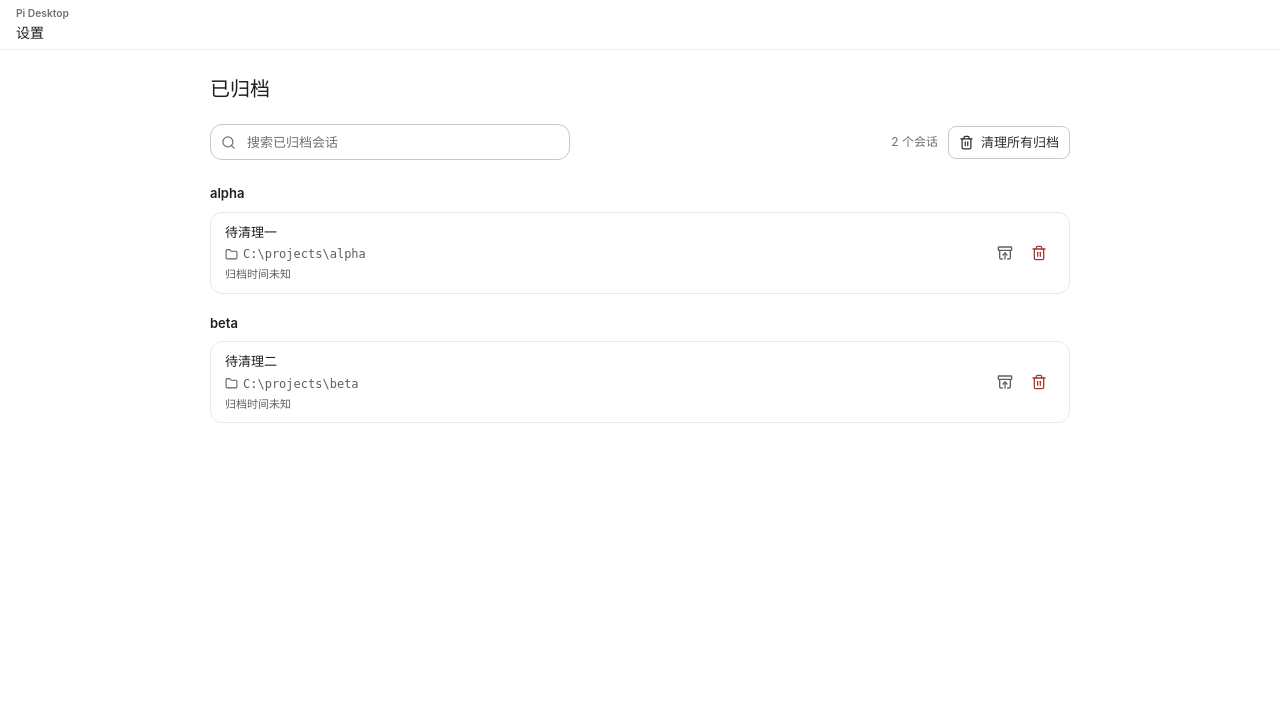
Scenario: SettingsView › 一键清理会删除 Pi 原生会话并清空归档索引
Click the button "清理所有归档" at (1009, 142), box [948,126,1070,159]
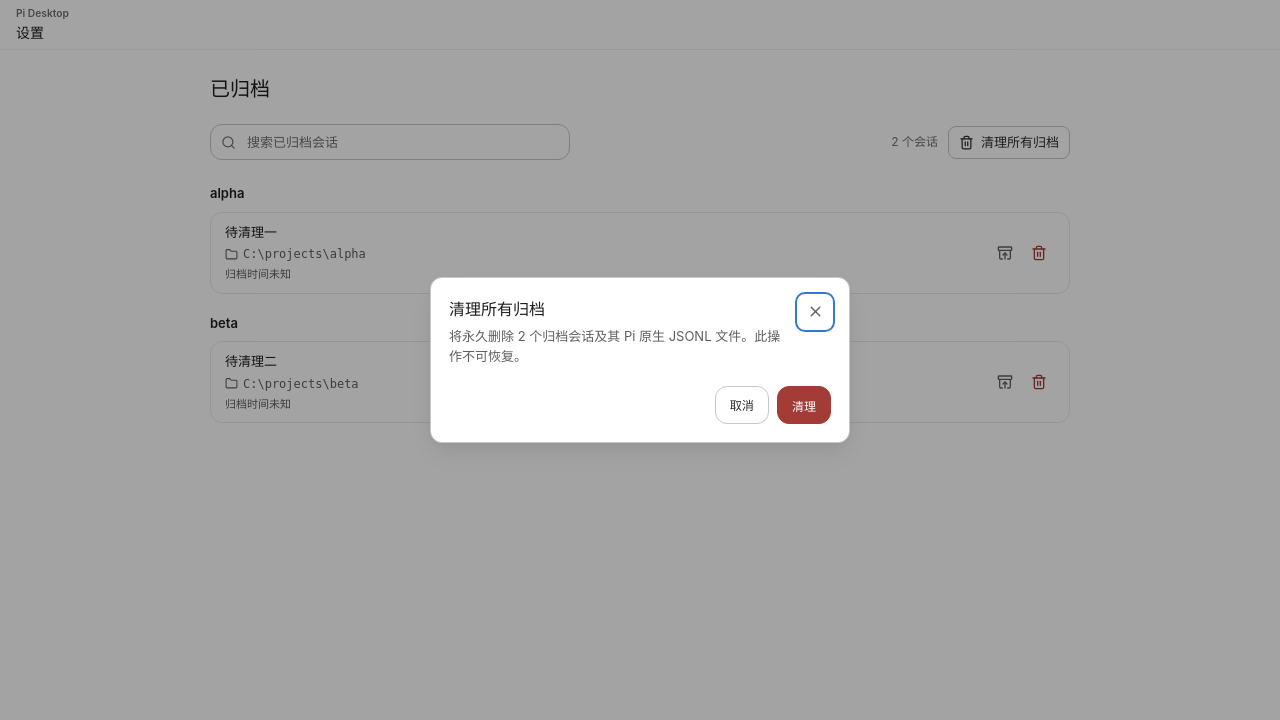
Result: the dialog "清理所有归档" shows "Pi 原生 JSONL 文件" at [449,328,780,364]
Click the button "清理" at (804, 405), box [777,386,831,424]
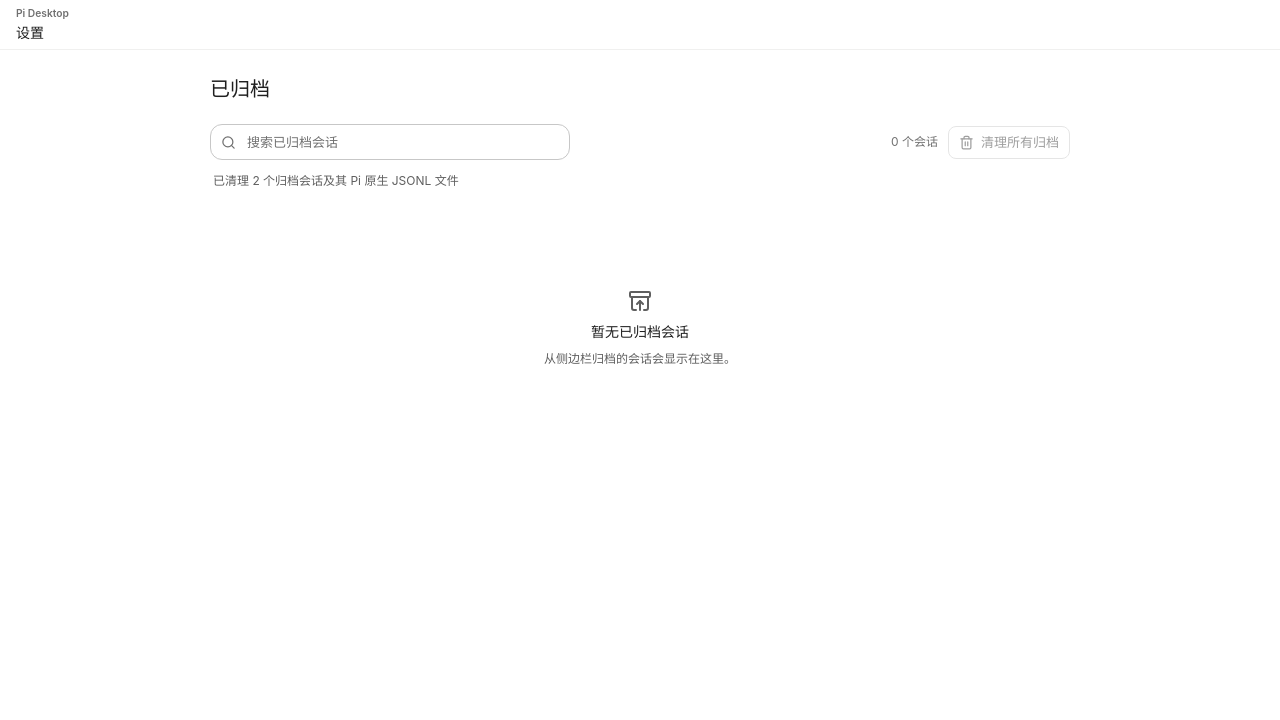
Result: the text "已清理 2 个归档会话及其 Pi 原生 JSONL 文件" is shown at [213,173,459,188]
